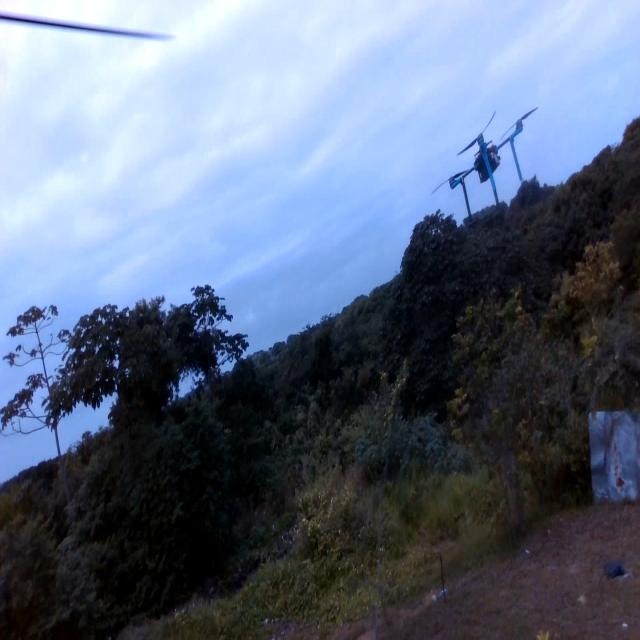-uav-: (412, 98, 554, 239)
